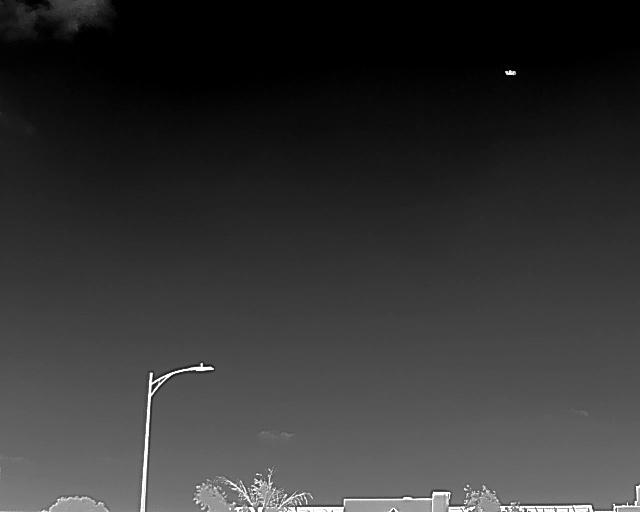fpv-drone: (505, 70, 516, 75)
